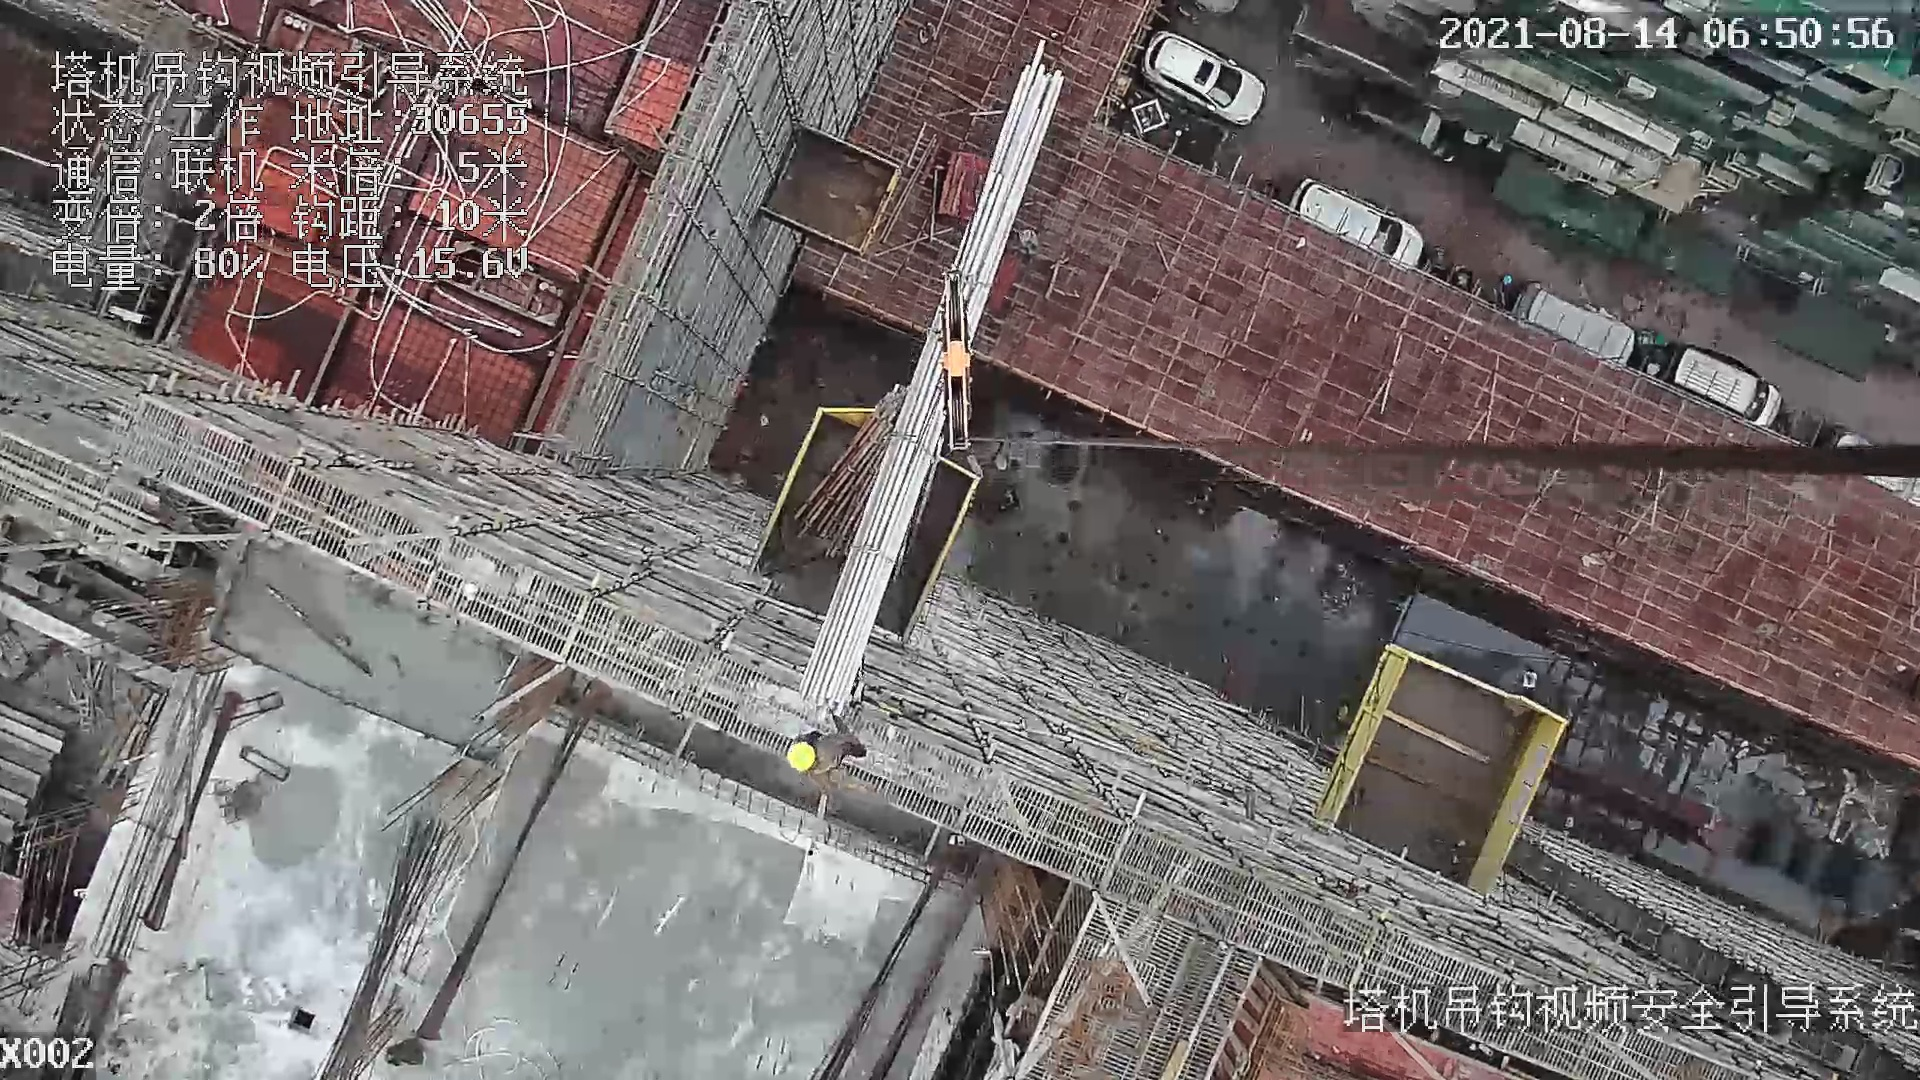helmet: (781, 739, 821, 779)
hook: (931, 267, 982, 459)
person: (779, 710, 864, 781)
